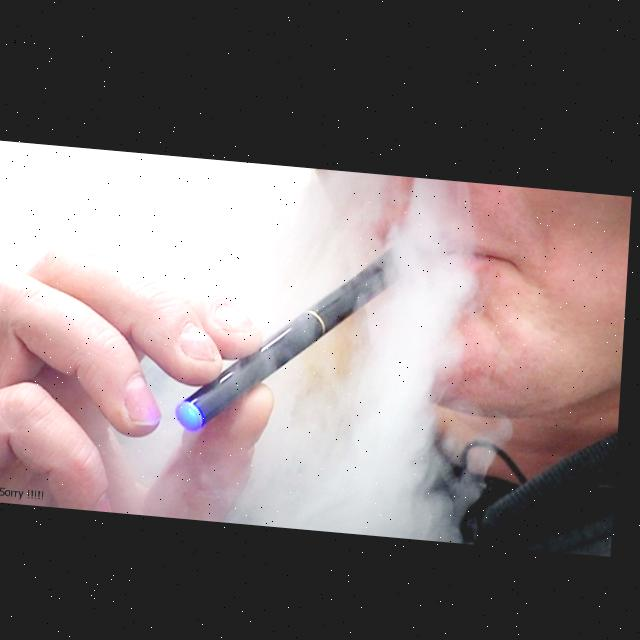vape: (180, 224, 411, 441)
